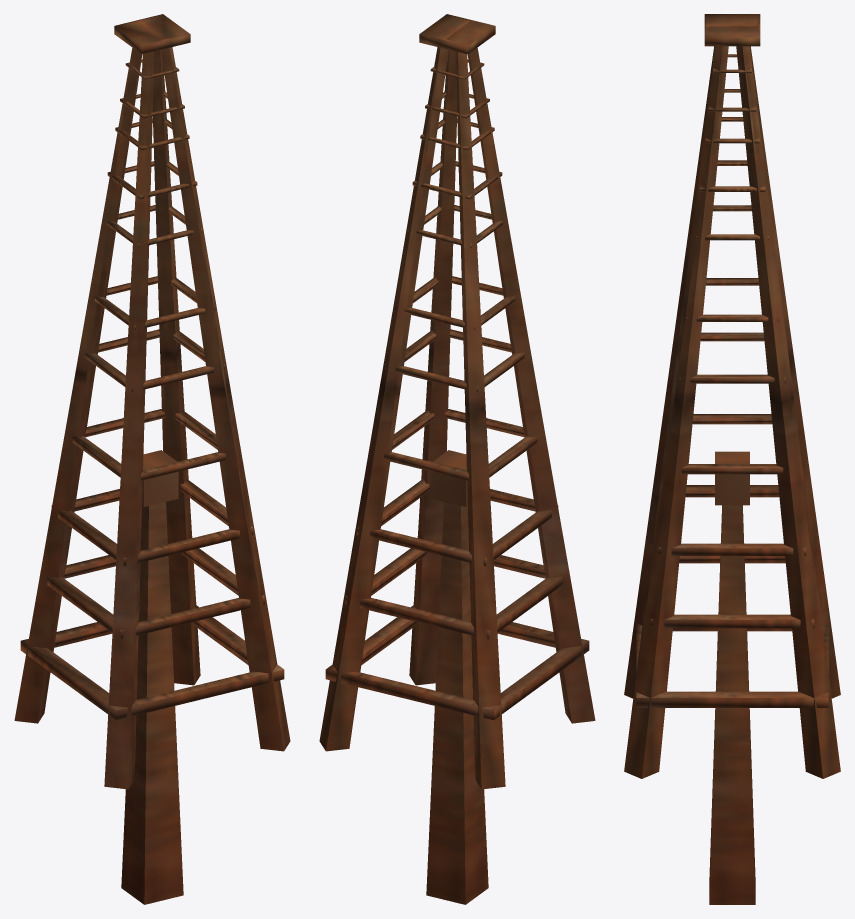
File: torre_petroleo.dae
The picture shows the model from 3 angles, left to right: view 1: azimuth 30°, elevation 25°; view 2: azimuth 150°, elevation 25°; view 3: azimuth 270°, elevation 25°; orthographic projection.
Visible parts, largest first — view 1: torre_petroleo; view 2: torre_petroleo; view 3: torre_petroleo.
Part boxes in pixels (x1=…): torre_petroleo: x1=14, y1=14, x2=290, y2=904; torre_petroleo: x1=319, y1=14, x2=595, y2=904; torre_petroleo: x1=624, y1=14, x2=840, y2=904.
Size of the model in its own units: 8.46 by 8.46 by 37.43.
